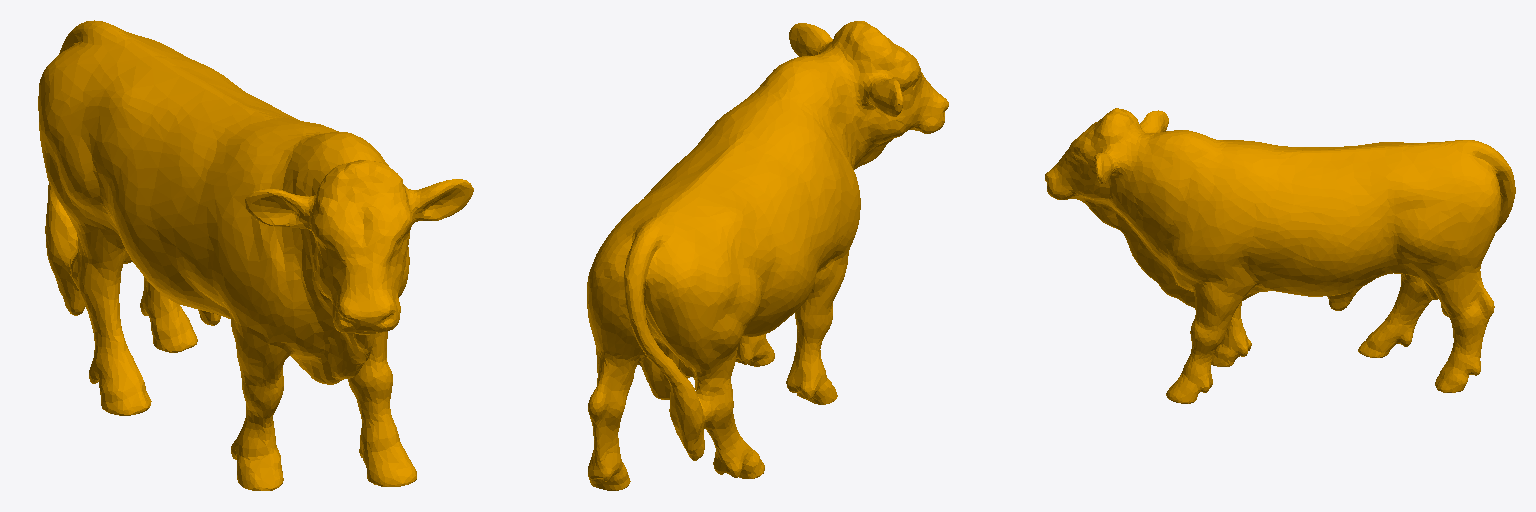
The robot description file, URDF, robot "Schleich_Hereford_Bull":
<?xml version="1.0"?>
<robot name="Schleich_Hereford_Bull">
  <link name="base_link">
    <contact>
      <lateral_friction value="1.0"/>
      <rolling_friction value="0.0"/>
      <contact_cfm value="0.0"/>
      <contact_erp value="1.0"/>
    </contact>
    <inertial>
      <mass value="0.752931167962"/>
      <inertia ixx="1" ixy="0" ixz="0" iyy="1" iyz="0" izz="1"/>
    </inertial>
    <visual>
      <geometry>
        <mesh filename="Schleich_Hereford_Bull_visual.obj"/>
      </geometry>
    </visual>
    <collision>
      <geometry>
        <mesh filename="Schleich_Hereford_Bull_collision.obj"/>
      </geometry>
    </collision>
  </link>
</robot>

--- Render facts (derived) ---
3 views of the same robot in one strip: view 1: azimuth 30°, elevation 25°; view 2: azimuth 150°, elevation 25°; view 3: azimuth 270°, elevation 25° (orthographic).
Robot: Schleich_Hereford_Bull — 1 links, 0 joints (none); root link base_link; default pose: all joints at 0.
Links seen in each view (by area): view 1: base_link; view 2: base_link; view 3: base_link.
Link boxes in pixels (x1,y1,x2,y2): base_link: [38, 20, 473, 490]; base_link: [587, 21, 948, 490]; base_link: [1045, 108, 1515, 403].
Size in the robot's own frame: 0.0481 by 0.1477 by 0.0896 metres.
Meshes: 1 distinct files referenced, 1 mesh visuals loaded (1 OBJ).